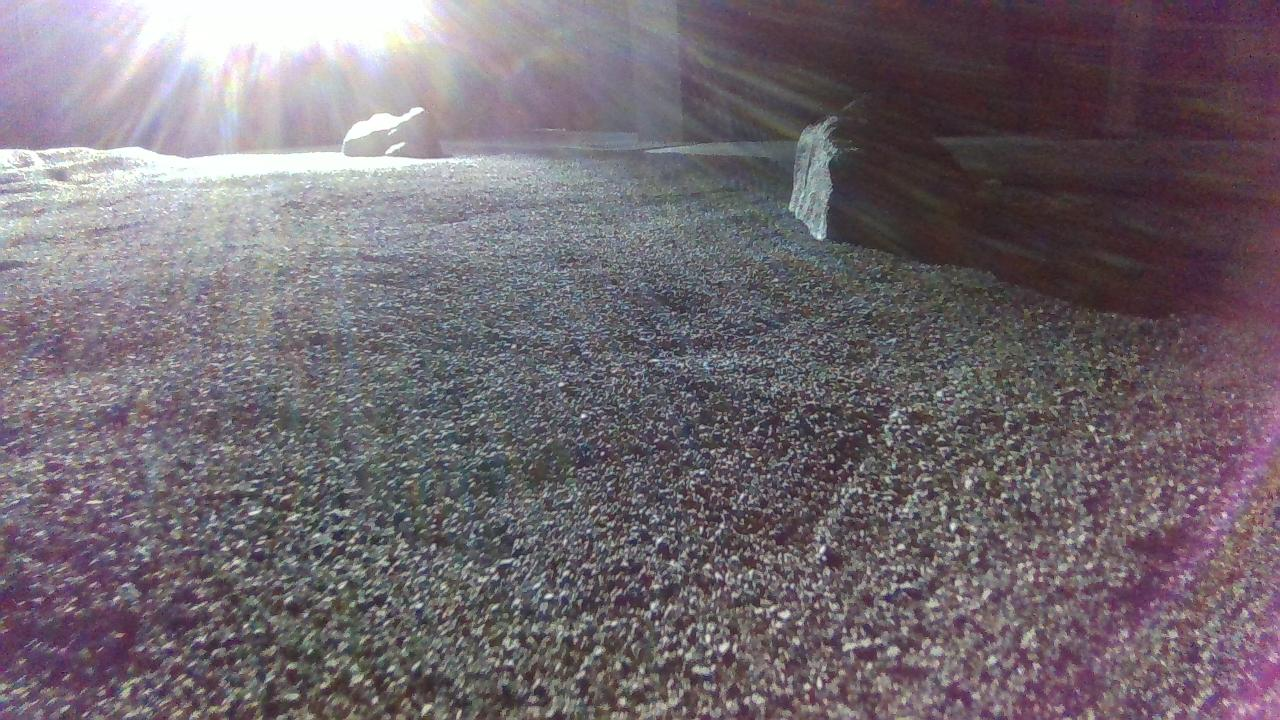rock: (790, 94, 975, 240), (341, 105, 441, 155)
